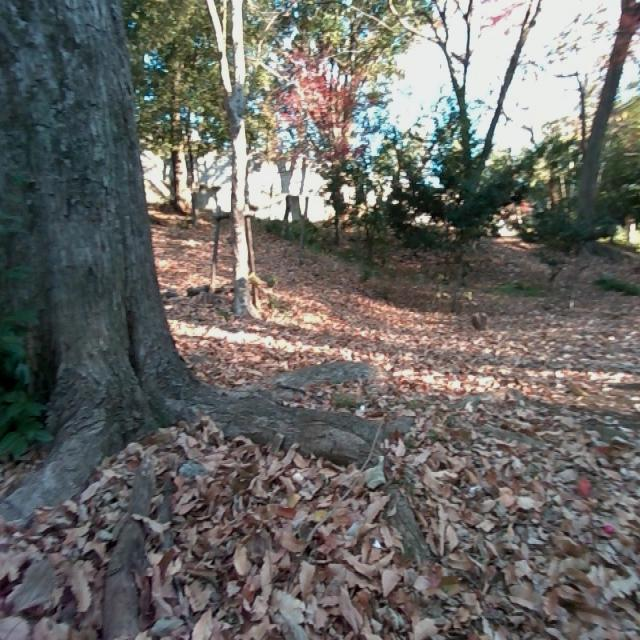bush: (347, 102, 549, 252)
tree: (0, 0, 244, 452), (403, 0, 552, 245), (203, 0, 267, 325), (558, 0, 640, 253)
